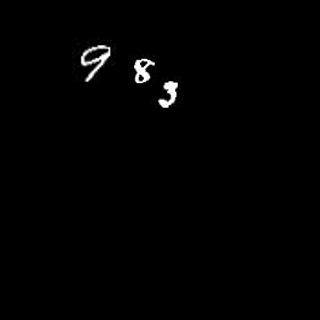eight: (131, 54, 151, 83)
nine: (80, 42, 109, 82)
three: (158, 80, 177, 109)
